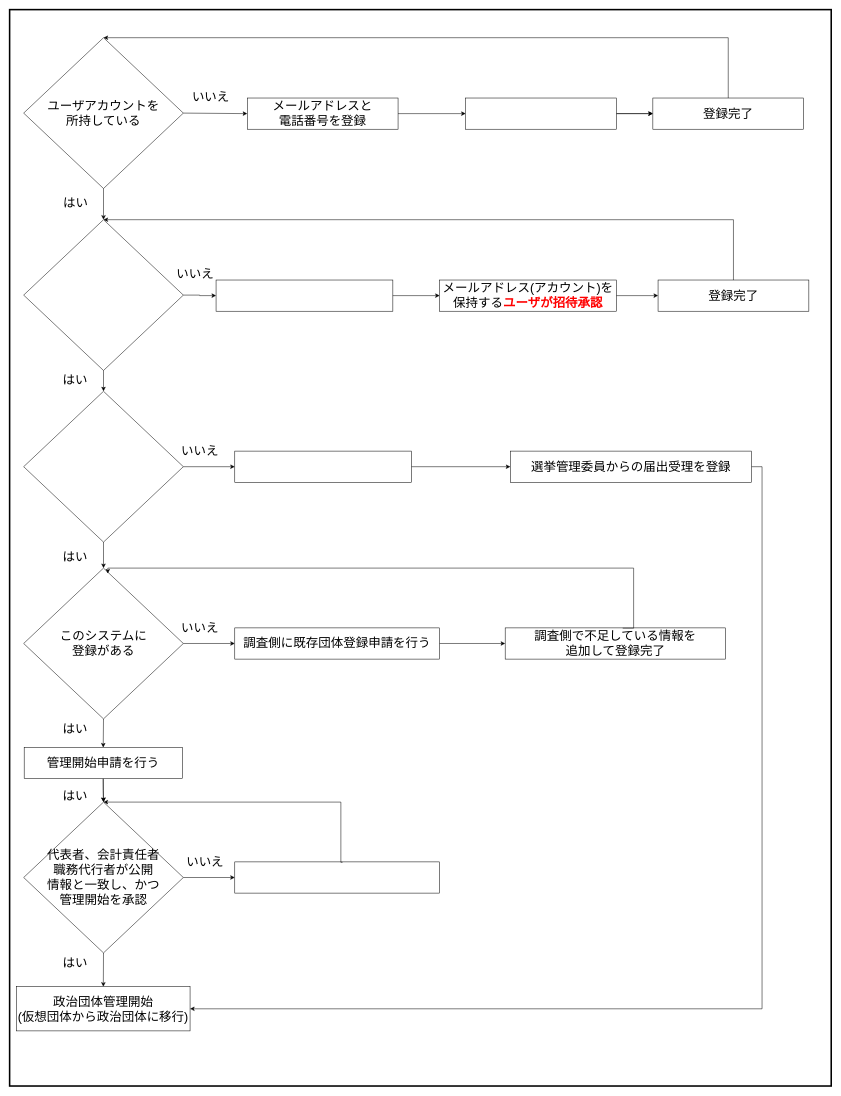
Image size: 841x1096. Some labels were removed from this diagram. The centre of each missing label's shape, as x and y in pixels:
"メールアドレスでリアルの知り合いである 他ユーザ を招待" goes at [304,295].
"メールアドレスと パスワードを追加" goes at [540,113].
"仮想集団内に 責任者が３名いる" goes at [103,294].
"各責任者が管理開始承認を行う" goes at [337,877].
"対象の 政治団体は 既存政治団体だ" goes at [103,466].
"政治団体設立届を提出する" goes at [323,466].
